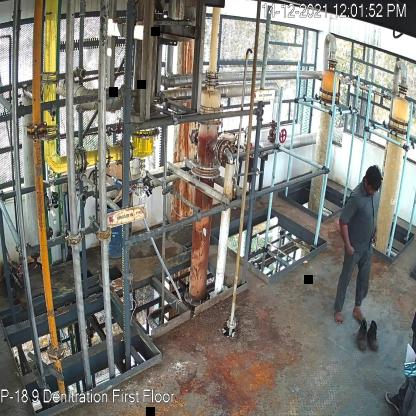no_shoes: (332, 304, 344, 324)
shoes: (366, 318, 382, 357), (354, 318, 368, 350)
